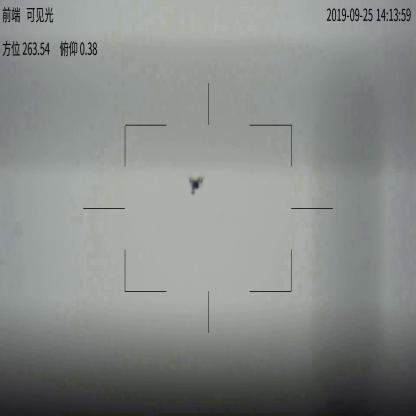uav: (188, 173, 204, 198)
